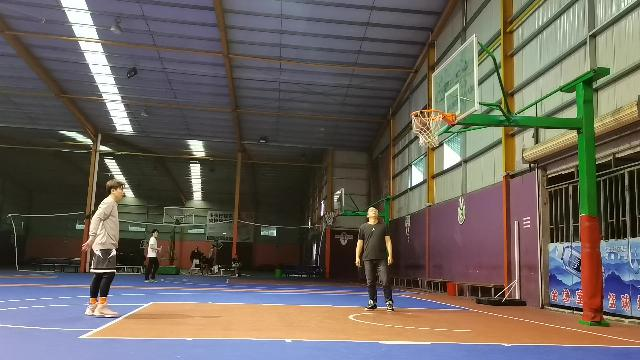basket: (411, 108, 444, 144), (324, 209, 336, 224)
goal: (413, 117, 429, 134)
